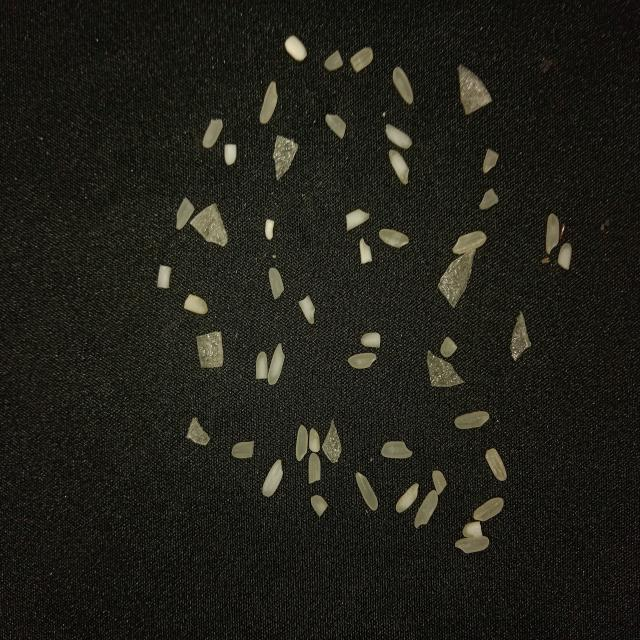Broken: (485, 447, 507, 482), (202, 118, 224, 149), (175, 197, 195, 230), (350, 46, 373, 73), (183, 292, 208, 315), (284, 35, 306, 61), (347, 208, 370, 232), (269, 266, 285, 300), (326, 114, 346, 140), (299, 295, 316, 325), (479, 187, 499, 212), (482, 148, 499, 174), (557, 243, 572, 271), (308, 452, 321, 484), (311, 495, 329, 518), (440, 336, 458, 359), (232, 441, 254, 459), (325, 51, 344, 71), (462, 521, 483, 539), (157, 264, 172, 289), (432, 470, 447, 495), (256, 351, 268, 380), (360, 237, 372, 264), (361, 332, 381, 348), (224, 143, 237, 166), (309, 427, 320, 453), (265, 217, 274, 240)
Full: (414, 489, 438, 529), (452, 230, 487, 256), (355, 472, 378, 511), (259, 81, 279, 125), (392, 67, 414, 104), (388, 149, 409, 186), (262, 459, 283, 496), (474, 497, 504, 522), (395, 483, 419, 513), (268, 342, 284, 386), (454, 410, 489, 430), (385, 124, 412, 149), (454, 536, 490, 554), (379, 228, 409, 249), (380, 441, 413, 459), (546, 212, 559, 256), (295, 425, 308, 462), (347, 352, 377, 368)
